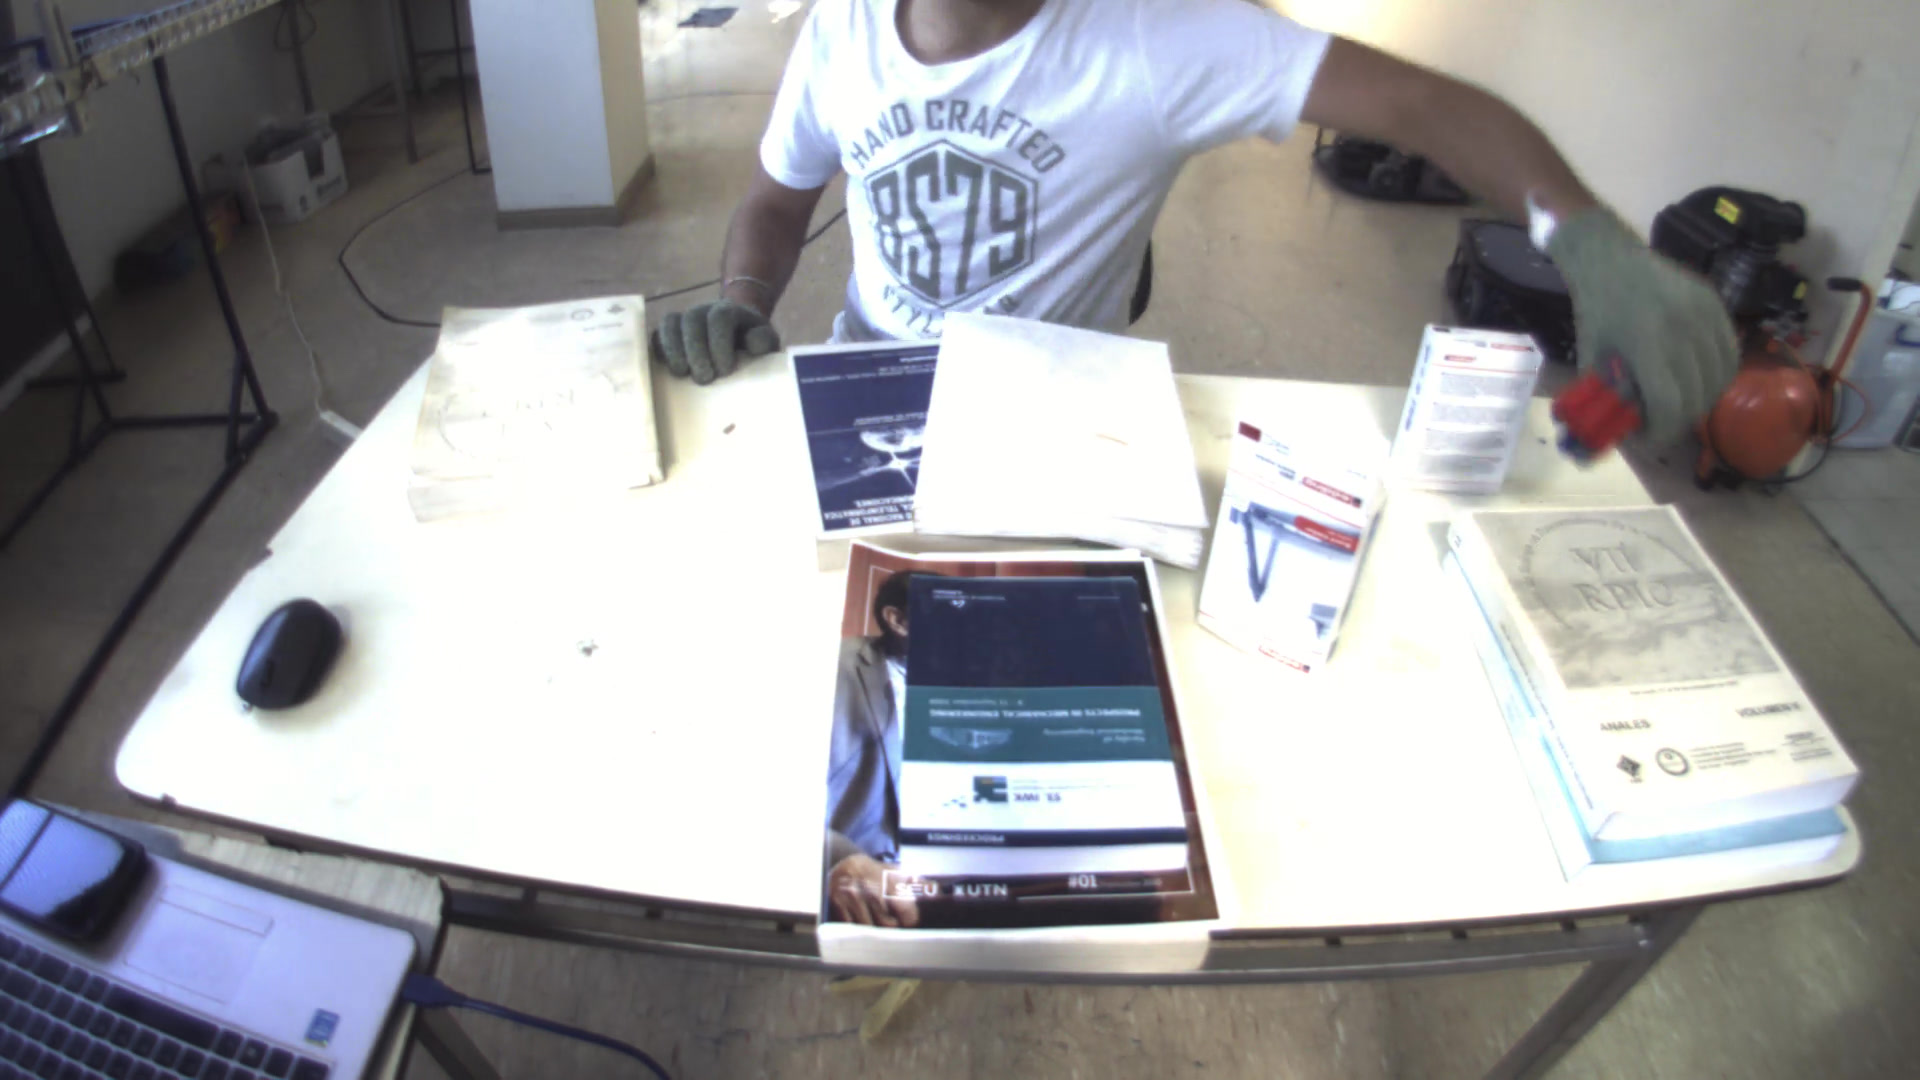hand: (1534, 208, 1746, 465), (633, 282, 781, 378)
